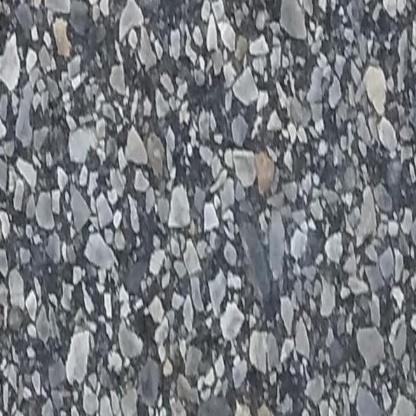Cracks: (404, 74, 416, 151)
